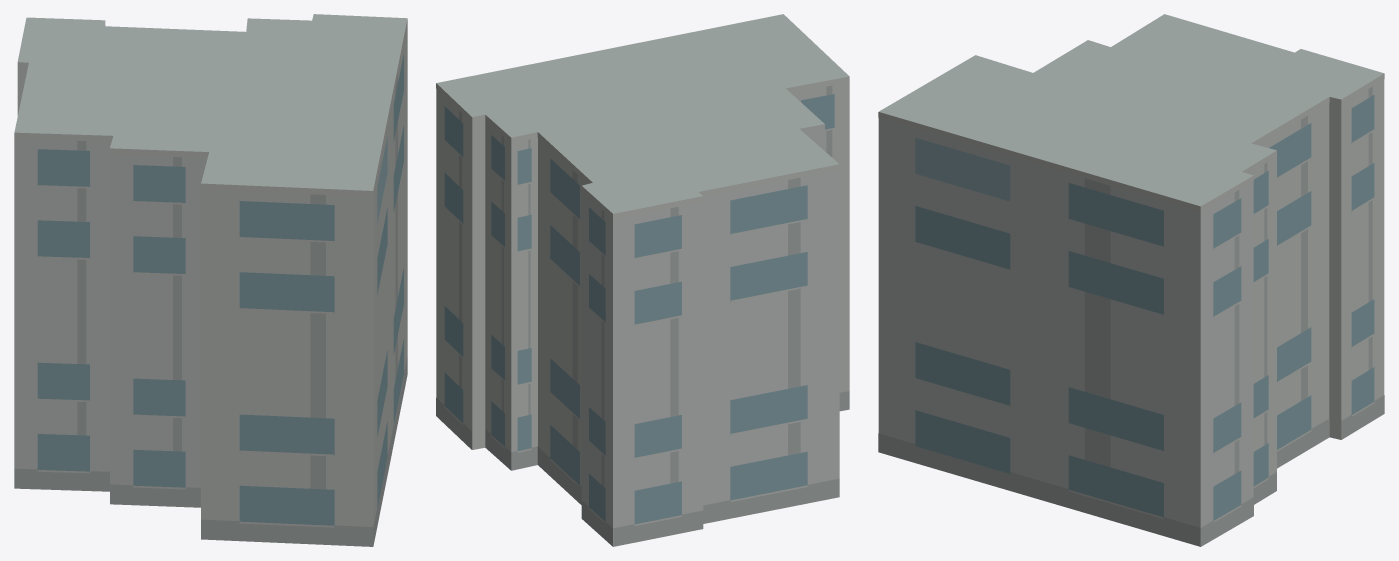
The model's file is survey-upis-32526530.glb.
The picture shows the model from 3 angles, left to right: view 1: azimuth 30°, elevation 25°; view 2: azimuth 150°, elevation 25°; view 3: azimuth 270°, elevation 25°; orthographic projection. The views are drawn at different scales.
Parts seen in each view (by area): view 1: survey-upis-32526530.tmp; view 2: survey-upis-32526530.tmp; view 3: survey-upis-32526530.tmp.
Part boxes in pixels (box(x1,y1,x2,y2)): survey-upis-32526530.tmp: box(14, 14, 407, 546); survey-upis-32526530.tmp: box(436, 14, 849, 546); survey-upis-32526530.tmp: box(878, 14, 1384, 546).
Size of the model in its own units: 17.22 by 14.2 by 19.13.
